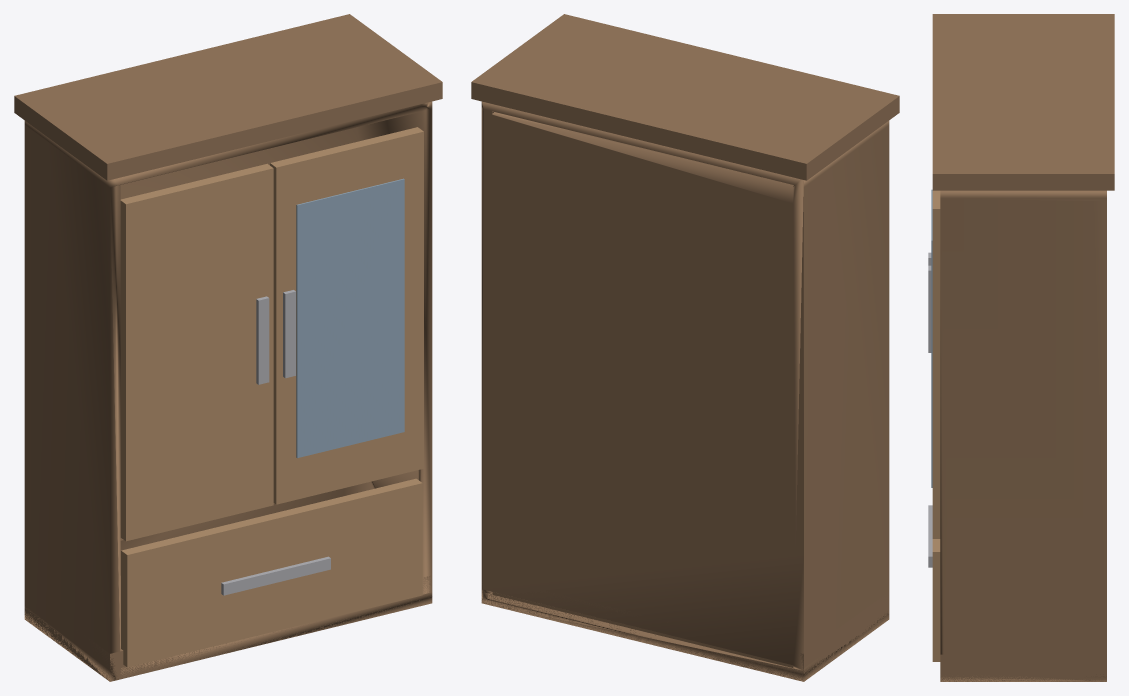
The model's file is wardrobe.glb.
3 views of the same model, side by side, from view 1: azimuth 30°, elevation 25°; view 2: azimuth 150°, elevation 25°; view 3: azimuth 270°, elevation 25° (orthographic). The views are drawn at different scales.
Visible parts, largest first — view 1: merged_wood_dark, door_l, mold_top, drawer_front, mirror, door_r, mold_bot, drawer_handle, handle_l, handle_r; view 2: merged_wood_dark, mold_top, mold_bot; view 3: merged_wood_dark, mold_top, mold_bot, door_r, drawer_front, mirror, handle_r, drawer_handle.
Boxes of the visible parts, box(x1,y1,x2,y2) form: merged_wood_dark: box(24, 101, 432, 681); door_l: box(120, 163, 273, 541); mold_top: box(14, 14, 442, 180); drawer_front: box(121, 478, 422, 667); mirror: box(296, 178, 404, 458); door_r: box(270, 127, 423, 504); mold_bot: box(24, 575, 432, 681); drawer_handle: box(221, 556, 330, 595); handle_l: box(256, 296, 269, 384); handle_r: box(283, 290, 295, 378); merged_wood_dark: box(481, 101, 889, 681); mold_top: box(471, 14, 899, 180); mold_bot: box(481, 576, 889, 681); merged_wood_dark: box(940, 190, 1106, 681); mold_top: box(932, 14, 1114, 190); mold_bot: box(940, 654, 1106, 681); door_r: box(932, 190, 940, 538); drawer_front: box(932, 539, 940, 661); mirror: box(931, 189, 932, 487); handle_r: box(928, 265, 931, 352); drawer_handle: box(928, 505, 932, 567).
Size of the model in its own units: 1.25 by 1.86 by 0.615.
